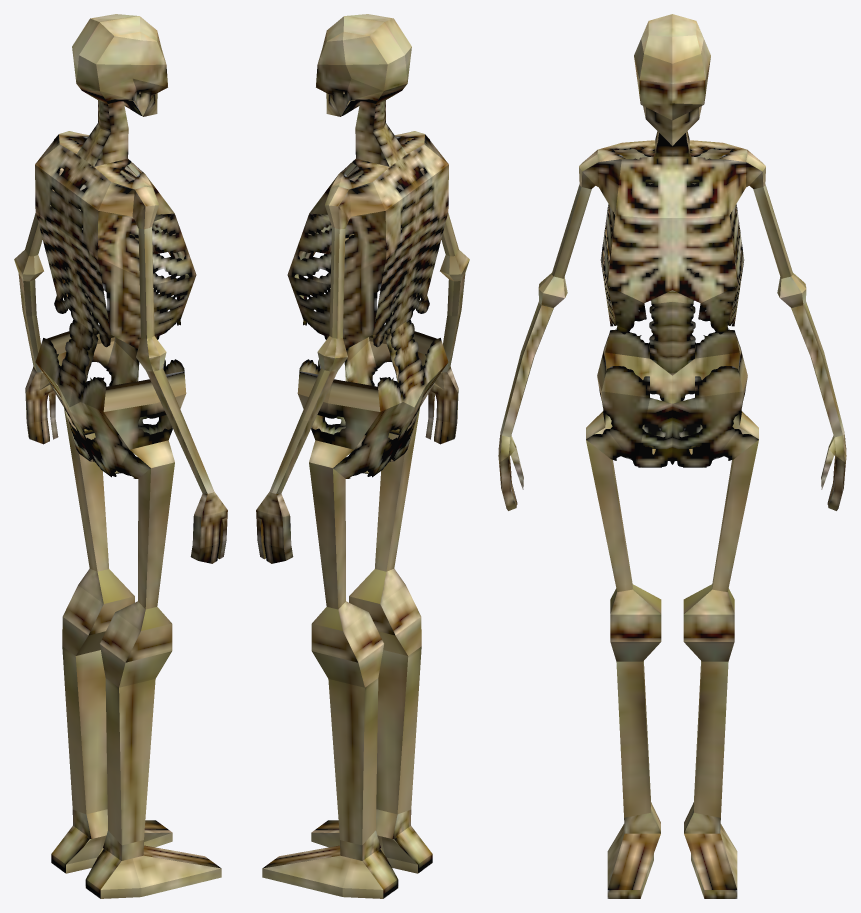
Rendered from low_poly_psx_skeleton.glb.
3 renders of one model, left to right at view 1: azimuth 30°, elevation 25°; view 2: azimuth 150°, elevation 25°; view 3: azimuth 270°, elevation 25°, orthographic.
Parts seen in each view (by area): view 1: Ribs_0; view 2: Ribs_0; view 3: Ribs_0.
Boxes of the visible parts, x1,y1,x2,y2 form: Ribs_0: (14, 14, 227, 898); Ribs_0: (256, 14, 469, 898); Ribs_0: (498, 14, 846, 898).
Bounding box in the file's own units: 0.2511 × 1.68 × 0.6276.
1 material, 1 textured.
